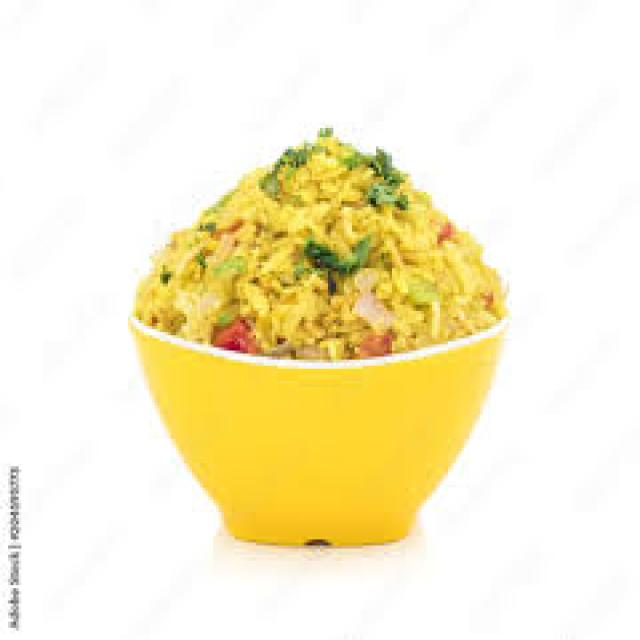POHA: (125, 113, 516, 363)
